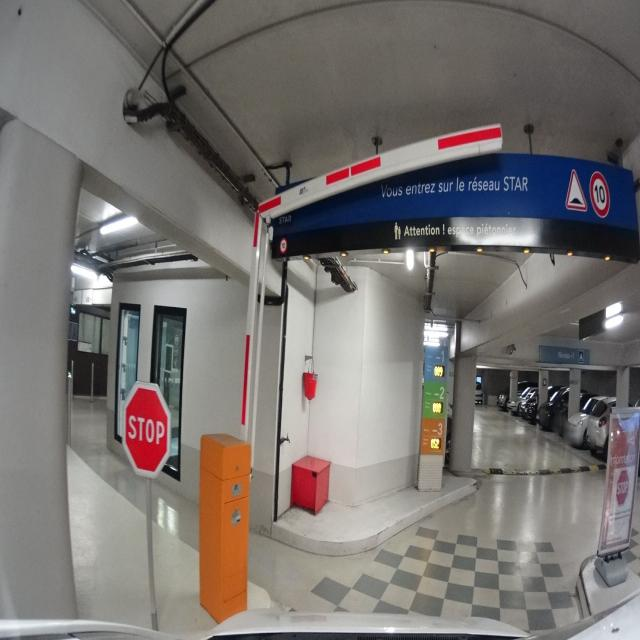car: (587, 407, 637, 461), (565, 395, 616, 446), (538, 387, 597, 431), (524, 385, 570, 423), (474, 389, 484, 406)
